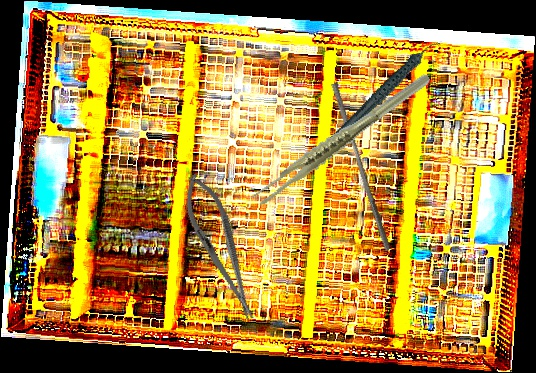Handpiece: (308, 39, 458, 151)
Needle Holder: (173, 168, 268, 327)
Pusher: (325, 82, 398, 251)
Tissue Forceps: (235, 72, 449, 208)
